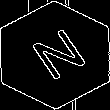N_SE: (20, 23, 90, 87)
